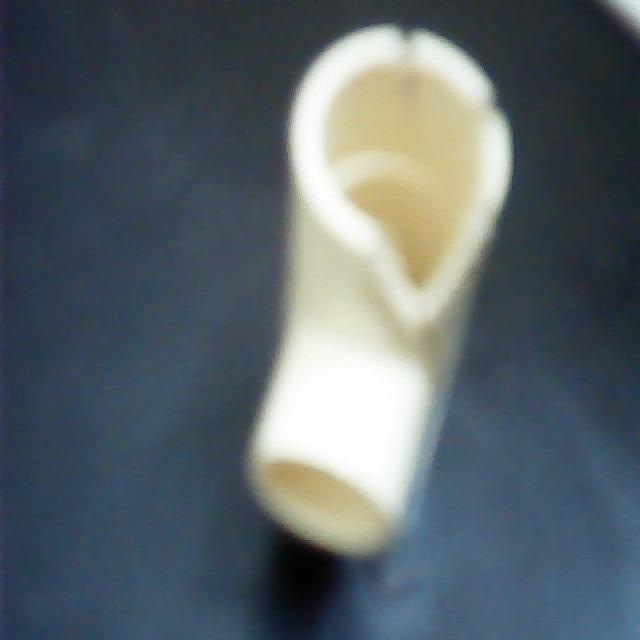Defective: (335, 144, 500, 317), (356, 27, 516, 134)
